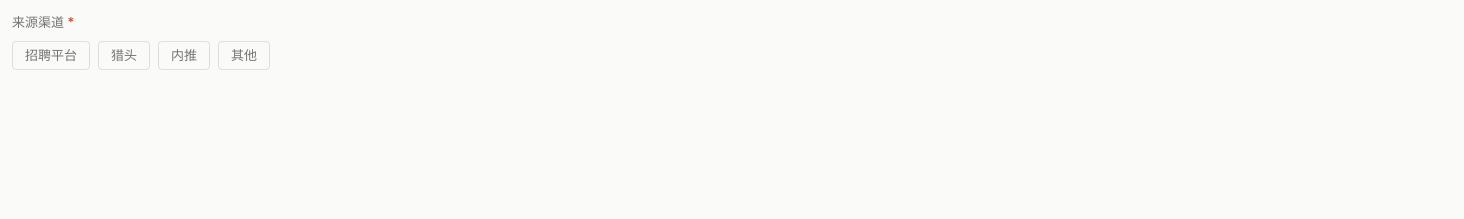
Scenario: SourceChannelPicker › 其他来源支持内联新增并自动选中
Click the button with class "channel-tab" showing "其他" at [244, 55], box [218,40,270,70]
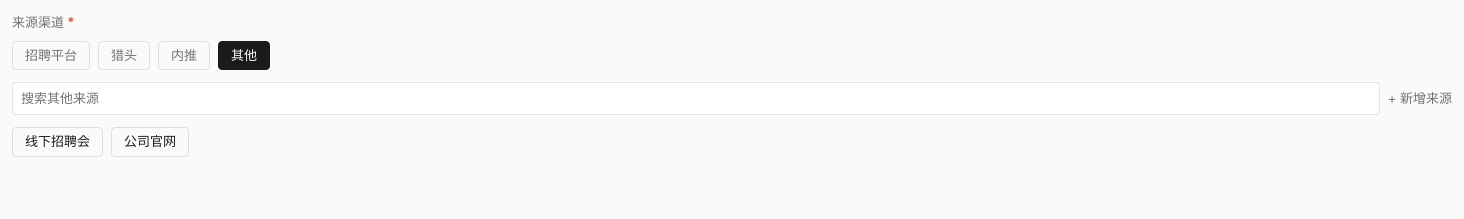
Click the button with class "sub-add" at [1420, 99], box [1388,89,1452,108]
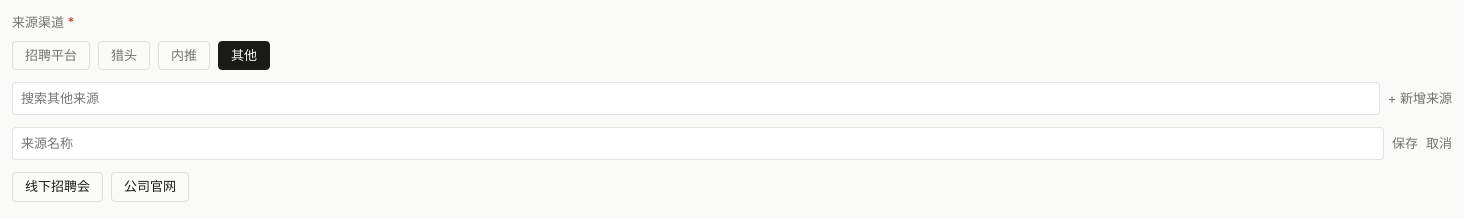
Type "宣讲会" into the field with placeholder "来源名称" at [698, 144], box [12,127,1384,160]
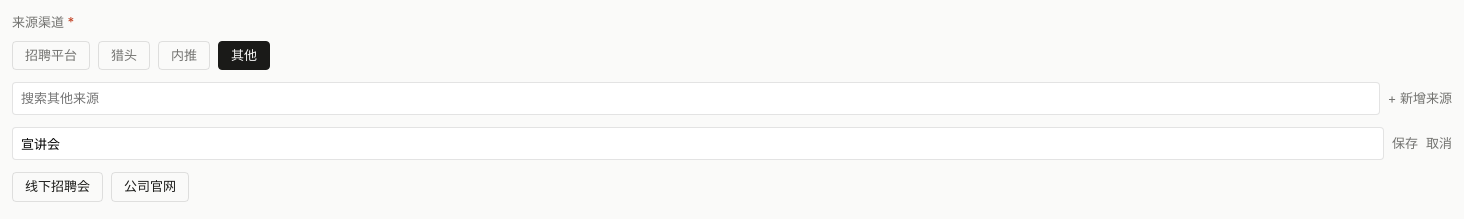
Click the button "保存" at [1405, 144], box [1392,134,1418,153]
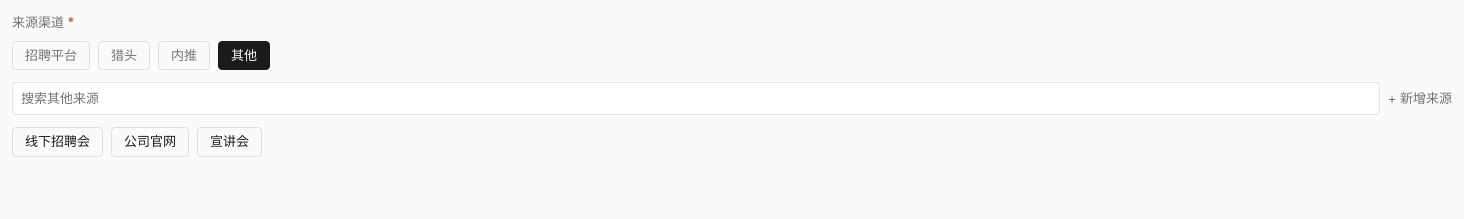
Result: the button with class "sub-option" reads "宣讲会" at [197,127,262,156]
